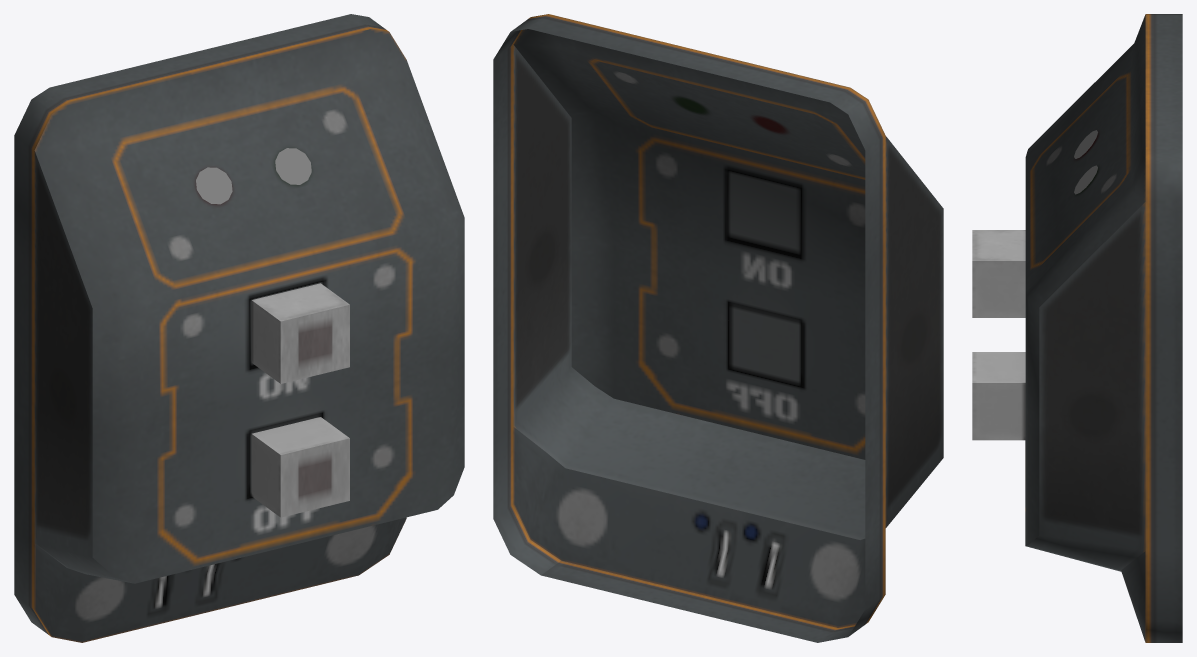
The model's file is Button B2C.fbx.
3 views of the same model, side by side, from view 1: azimuth 30°, elevation 25°; view 2: azimuth 150°, elevation 25°; view 3: azimuth 270°, elevation 25° (orthographic). The views are drawn at different scales.
Visible parts, largest first — view 1: Button B2C, ButtonHandle B2C1, ButtonHandle B2C2, Button B2C LightRed, Button B2C LightGreen; view 2: Button B2C; view 3: Button B2C, ButtonHandle B2C2, ButtonHandle B2C1.
Part boxes in pixels (bbox=[...]): Button B2C: bbox=[14, 14, 464, 642]; ButtonHandle B2C1: bbox=[251, 283, 349, 383]; ButtonHandle B2C2: bbox=[251, 417, 349, 517]; Button B2C LightRed: bbox=[196, 167, 232, 204]; Button B2C LightGreen: bbox=[275, 148, 311, 184]; Button B2C: bbox=[493, 14, 943, 642]; Button B2C: bbox=[1025, 14, 1182, 642]; ButtonHandle B2C2: bbox=[972, 352, 1025, 440]; ButtonHandle B2C1: bbox=[972, 230, 1025, 317].
Bounding box in the file's own units: 12.71 × 17.75 × 6.82.
3 materials, 1 textured.
